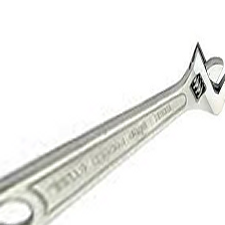Wrench: (5, 35, 225, 220)
